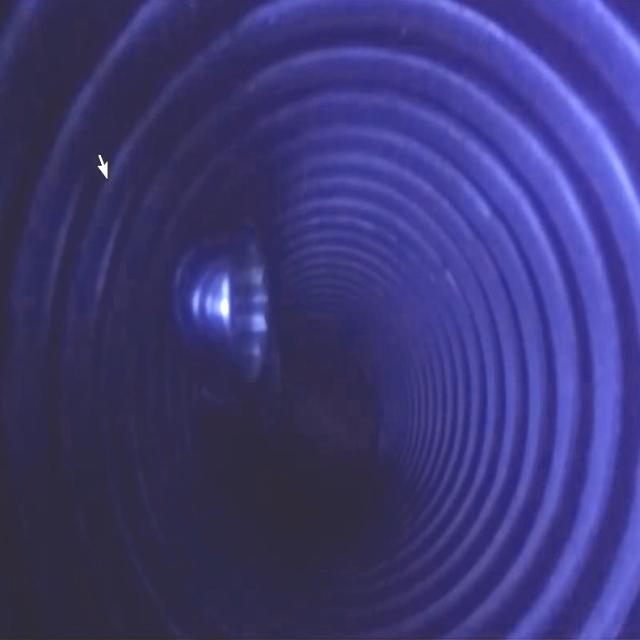metal piece: (171, 230, 269, 379)
